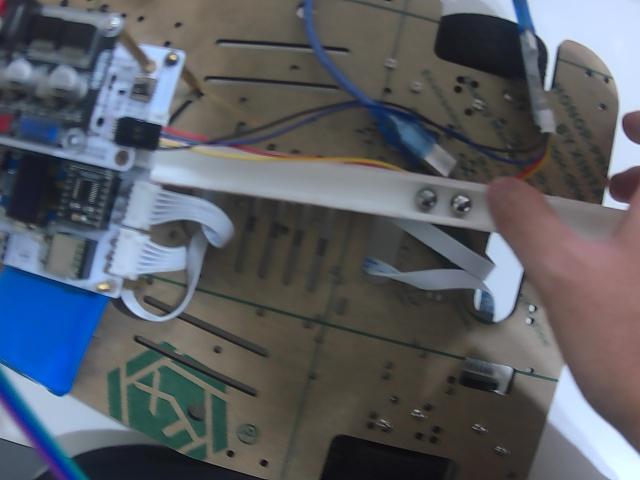steelball: (414, 188, 437, 212), (450, 195, 471, 215)
